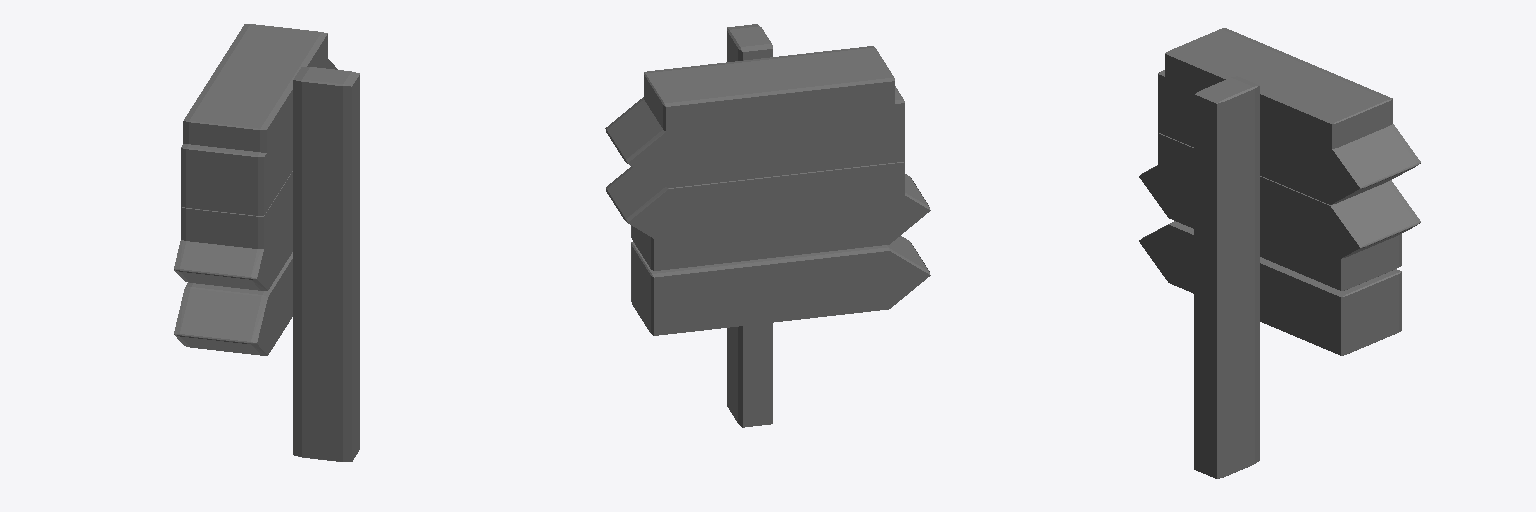
Rendered from placa.obj.
3 renders of one model, left to right at view 1: azimuth 30°, elevation 25°; view 2: azimuth 150°, elevation 25°; view 3: azimuth 270°, elevation 25°, orthographic.
Parts seen in each view (by area): view 1: placa; view 2: placa; view 3: placa.
Boxes of the visible parts, x1=… form: placa: x1=174, y1=24, x2=359, y2=461; placa: x1=605, y1=24, x2=930, y2=427; placa: x1=1139, y1=28, x2=1420, y2=478.
Bounding box in the file's own units: 1.38 × 2.04 × 1.38.